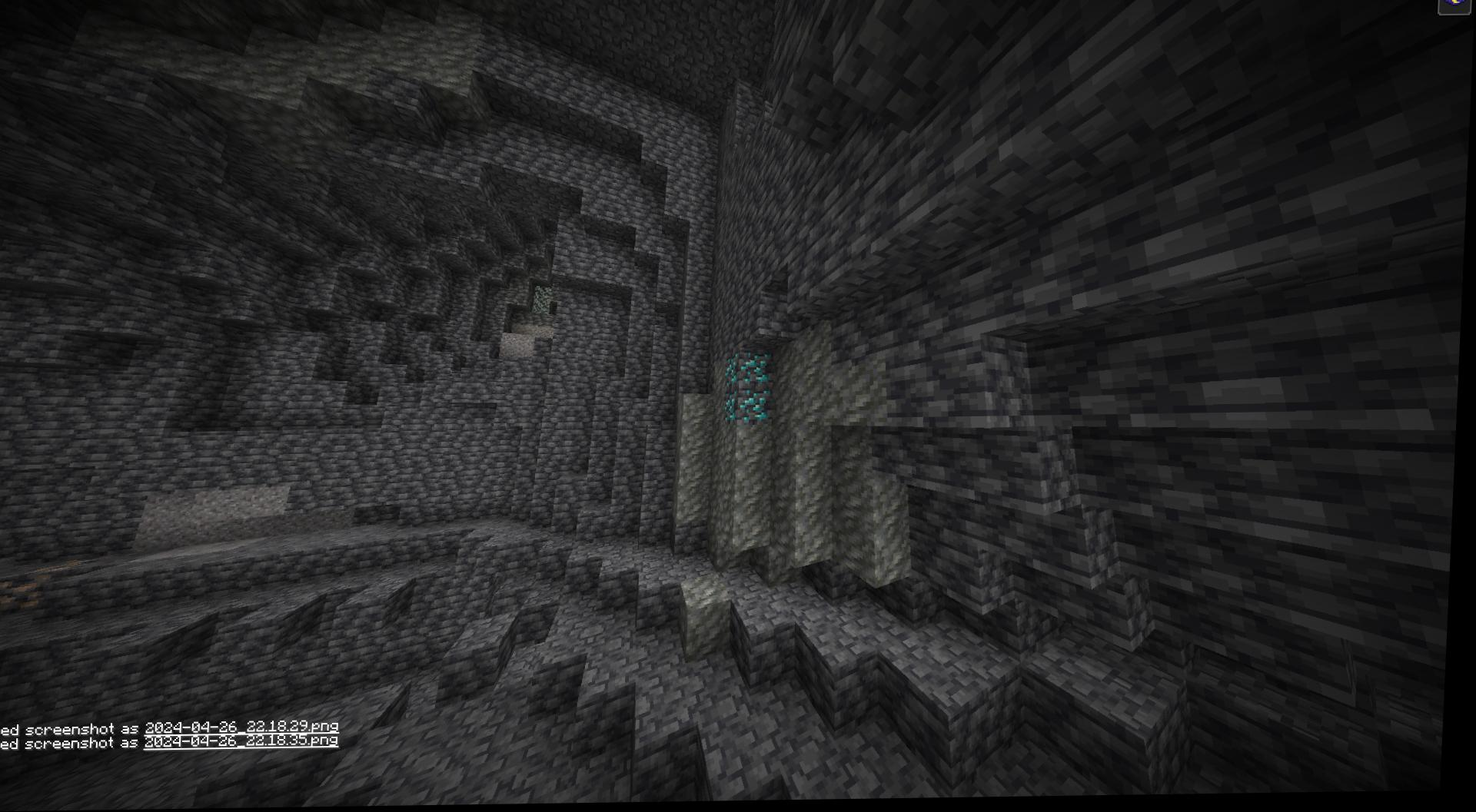diamond ore: (727, 351, 778, 391), (726, 388, 776, 428)
iron ore: (11, 559, 81, 607)
